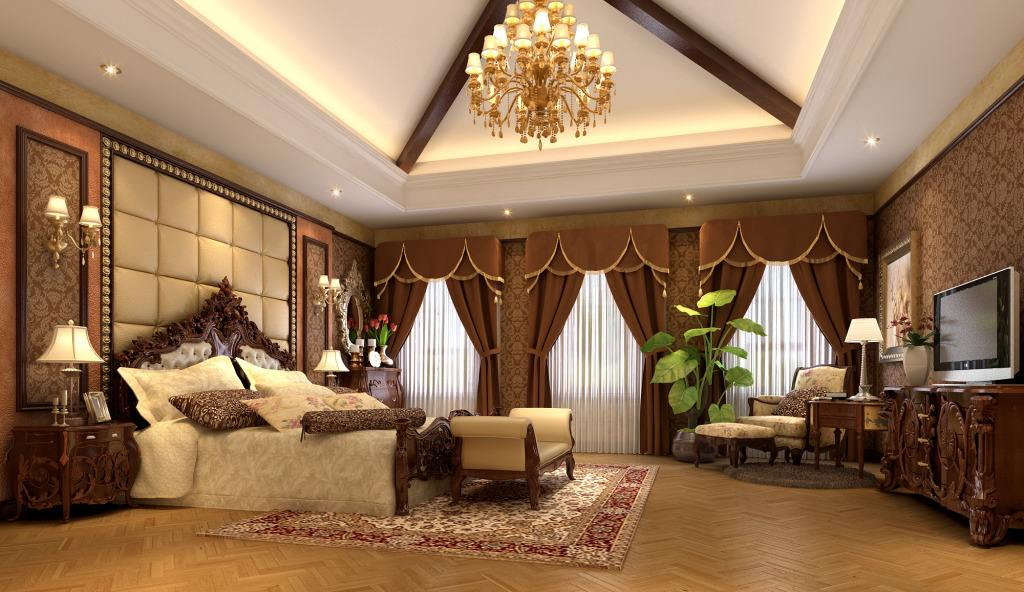床: (96, 396, 411, 518)
枕头: (112, 359, 381, 430)
灯: (467, 3, 625, 155), (37, 325, 96, 425), (42, 190, 104, 269), (843, 316, 885, 401), (313, 271, 350, 315), (313, 355, 348, 390), (99, 63, 126, 82), (684, 195, 706, 211), (498, 210, 518, 227), (327, 189, 347, 206)
